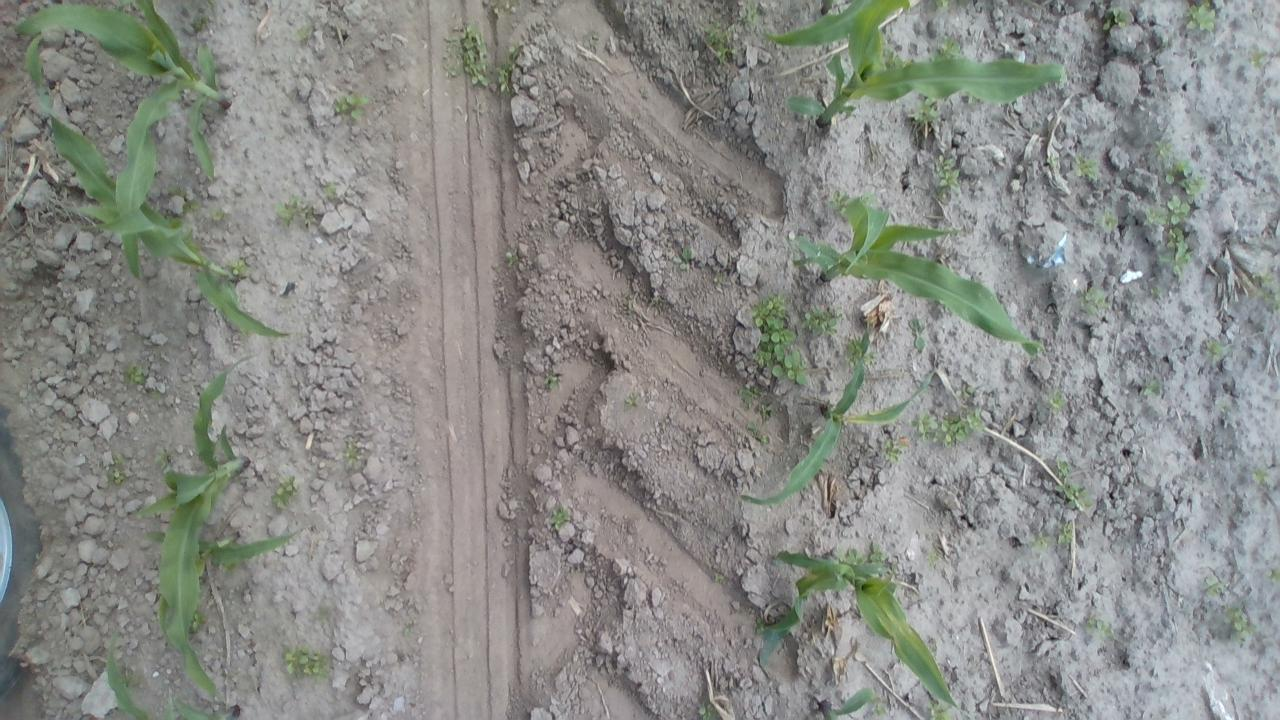Maize: (23, 33, 294, 344), (7, 4, 240, 279), (134, 353, 284, 701), (783, 189, 1044, 360), (734, 324, 942, 513), (777, 0, 1071, 129), (751, 543, 964, 707), (139, 516, 312, 666), (100, 623, 250, 720), (752, 0, 878, 49), (812, 688, 876, 720)
Weeds: (745, 292, 810, 387), (441, 23, 522, 96), (910, 409, 984, 448), (1162, 160, 1212, 200), (282, 645, 331, 682), (1160, 224, 1196, 273), (705, 21, 743, 65), (274, 196, 318, 229), (801, 305, 845, 338), (1146, 196, 1194, 226), (330, 90, 374, 122), (842, 330, 877, 367), (1224, 606, 1257, 645), (1075, 284, 1111, 318), (741, 386, 778, 419), (1182, 2, 1220, 33), (1058, 478, 1094, 510), (935, 156, 962, 197), (270, 474, 298, 510), (1083, 608, 1116, 638), (167, 186, 198, 216), (1253, 270, 1276, 310), (905, 316, 929, 354), (930, 36, 964, 62), (102, 456, 132, 485), (908, 100, 941, 126), (342, 438, 366, 472), (1072, 154, 1100, 183), (478, 0, 518, 19), (121, 362, 149, 388), (193, 1, 215, 34), (1092, 207, 1118, 234), (1199, 573, 1228, 597), (747, 420, 770, 450), (1200, 336, 1226, 362), (1102, 6, 1130, 30), (550, 504, 574, 532), (858, 543, 888, 565), (228, 257, 252, 282), (882, 439, 906, 464), (828, 190, 849, 218), (674, 247, 698, 271), (1152, 136, 1174, 162), (882, 46, 908, 68), (926, 701, 956, 720), (870, 690, 890, 718), (313, 602, 338, 624), (741, 3, 760, 31), (292, 23, 316, 45), (118, 672, 144, 692), (1056, 521, 1076, 547), (1246, 47, 1268, 70), (1046, 392, 1069, 414), (1139, 372, 1158, 398), (617, 290, 636, 316), (698, 701, 724, 719), (644, 292, 670, 310), (542, 370, 563, 391), (1055, 458, 1078, 477), (1250, 465, 1270, 486), (154, 448, 173, 470), (1262, 564, 1280, 587), (925, 546, 943, 569), (144, 388, 167, 405), (402, 618, 421, 638), (321, 181, 339, 202), (790, 252, 810, 270), (1032, 532, 1052, 550), (753, 614, 767, 639), (624, 391, 642, 410), (208, 207, 228, 224), (959, 382, 977, 400), (504, 248, 520, 268), (190, 612, 206, 632), (932, 0, 958, 12), (1046, 151, 1063, 169), (711, 266, 728, 284), (1149, 284, 1163, 299), (713, 572, 726, 584)
